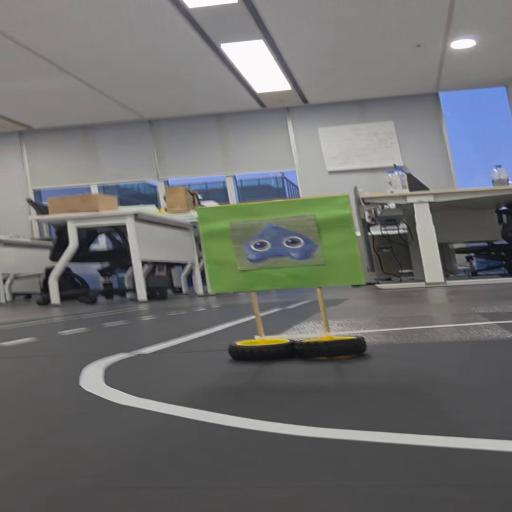Sign_B: (187, 190, 371, 374)
